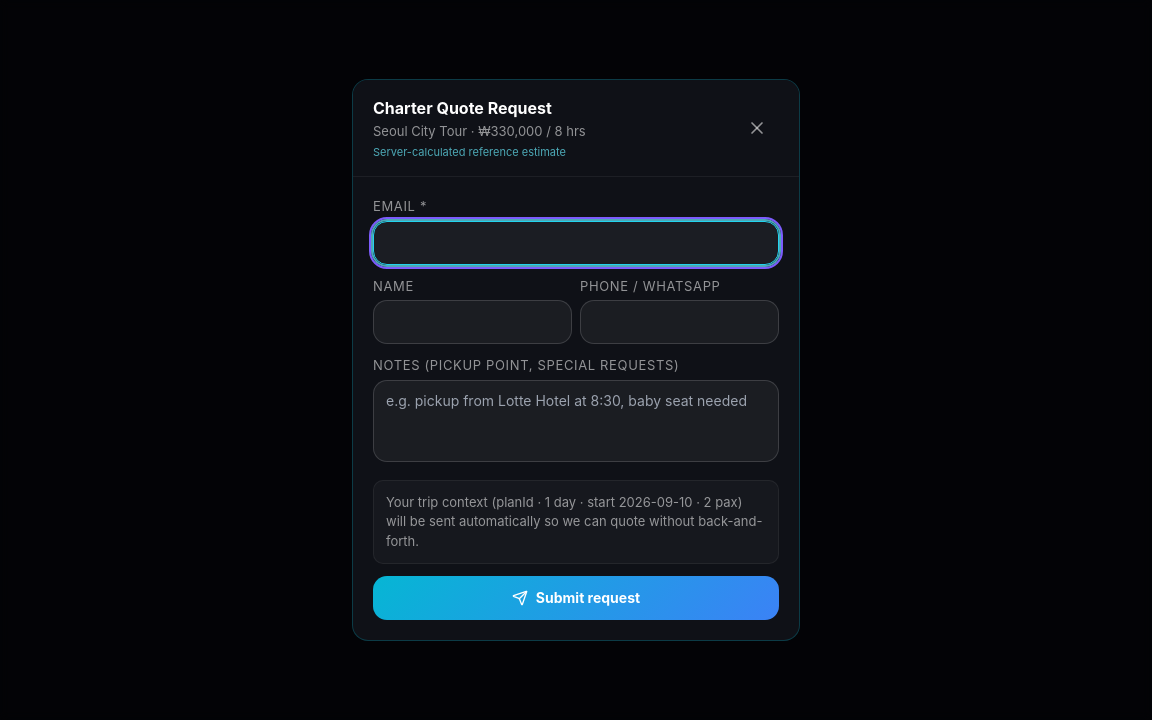
Test: CharterInquireModal portal and keyboard access › announces success and moves focus when the submit button disappears
This screenshot has width=1152, height=720.
Type "guest@example.com" into the field labelled "Email *" at (576, 242), box left=373, top=220, right=779, bottom=264
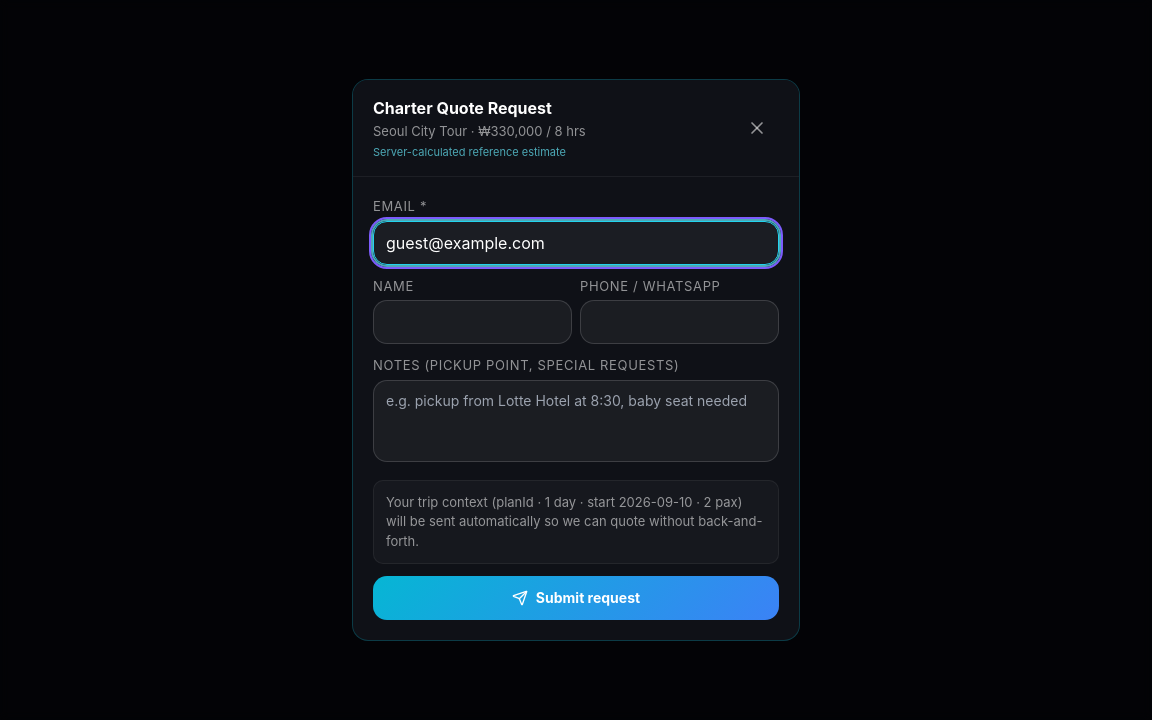
Click the button "Submit request" at (576, 598), box left=373, top=576, right=779, bottom=620
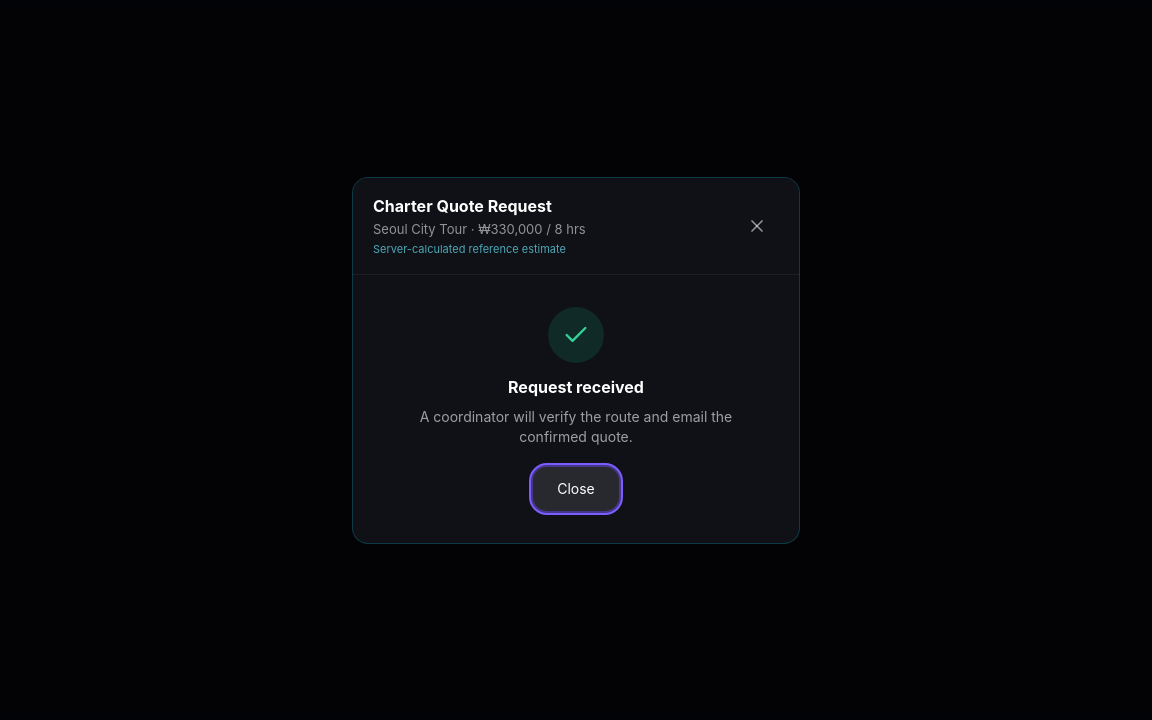
Expected: the message shows "Request received", left=508, top=376, right=644, bottom=396
